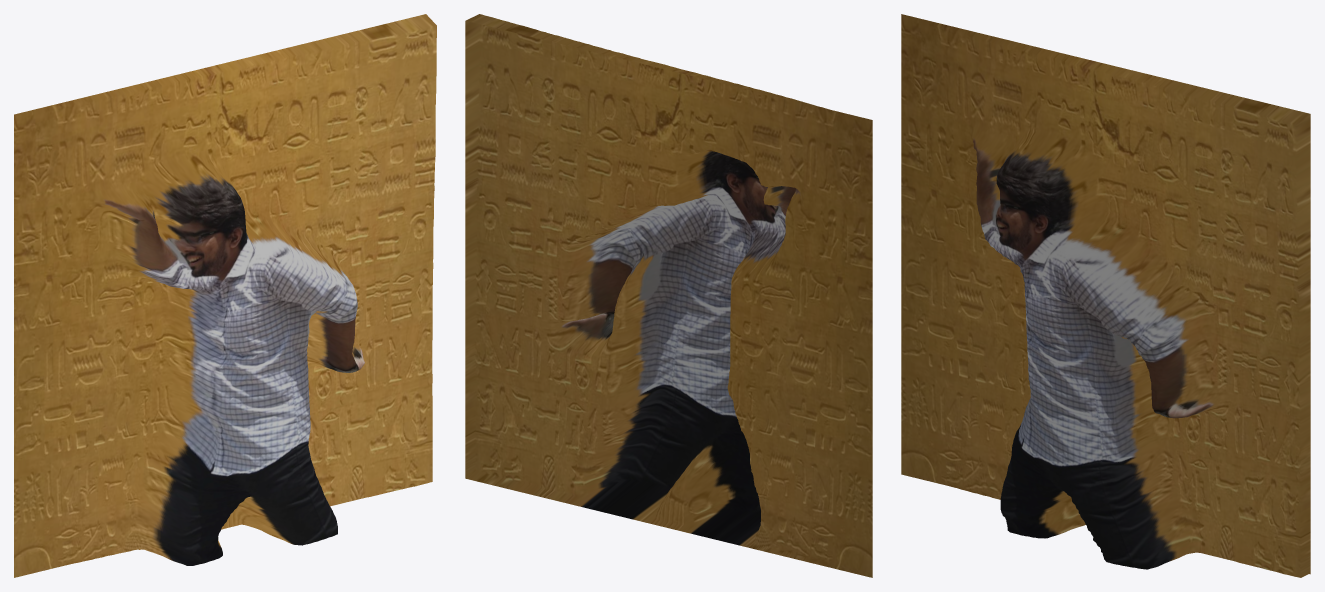
The model's file is arko.glb.
The picture shows the model from 3 angles, left to right: view 1: azimuth 30°, elevation 25°; view 2: azimuth 150°, elevation 25°; view 3: azimuth 330°, elevation 25°; orthographic projection.
Parts seen in each view (by area): view 1: mesh; view 2: mesh; view 3: mesh.
Boxes of the visible parts, x1,y1,x2,y2 form: mesh: [14, 14, 436, 577]; mesh: [465, 14, 872, 577]; mesh: [901, 14, 1310, 577].
Bounding box in the file's own units: 2.79 × 3 × 0.5195.
Materials: 1 (1 with a texture image).
